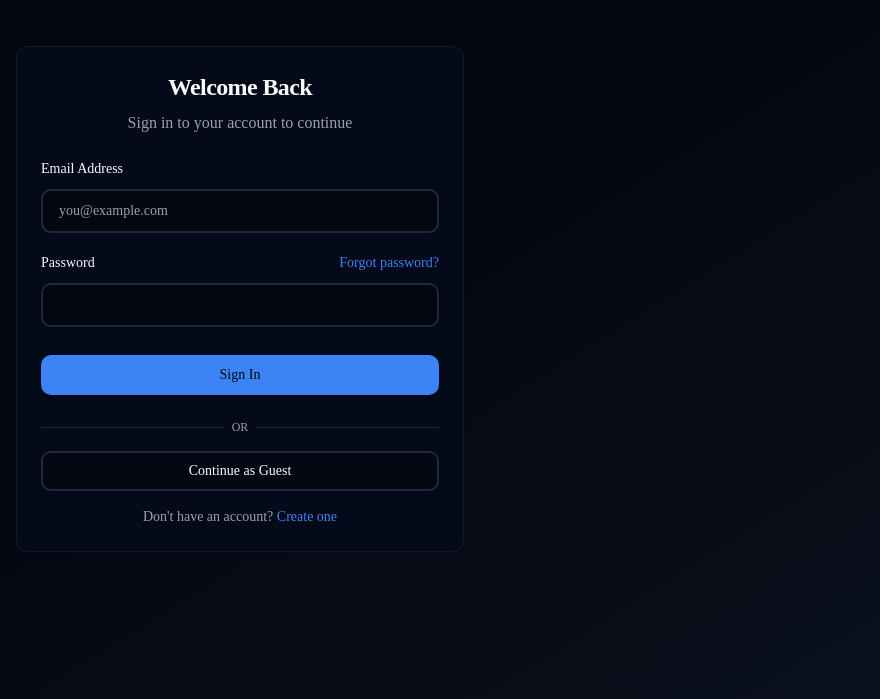
LoginPage › shows validation errors for invalid input
The width and height of the screenshot is (880, 699).
Click the button "Sign In" at (240, 375), box top-left (41, 355), bottom-right (439, 395)
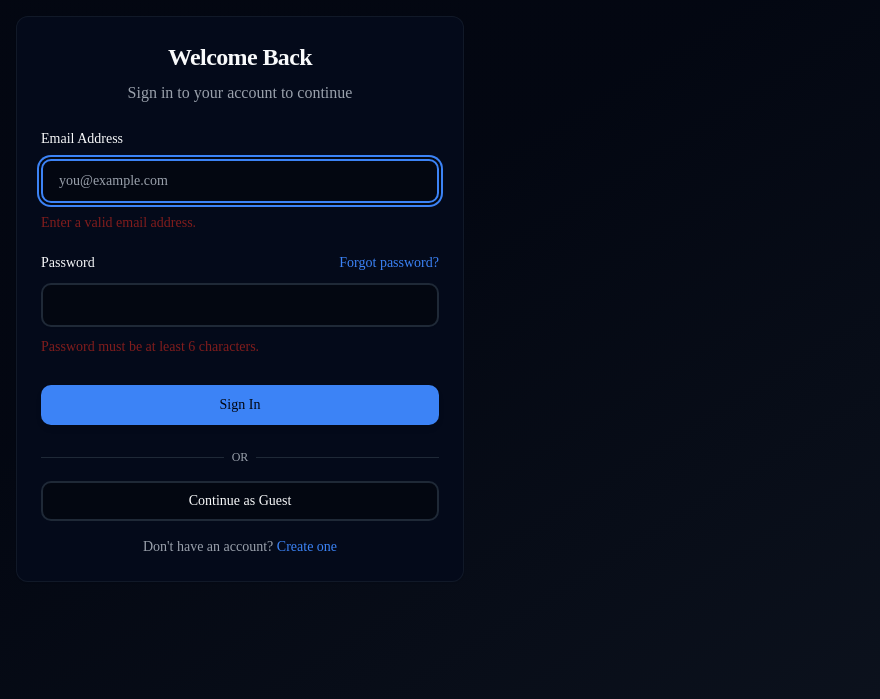
Expected: the text "Enter a valid email address." is shown, top-left (41, 215), bottom-right (196, 230)
Expected: the text "Password must be at least 6 characters." is shown, top-left (41, 339), bottom-right (259, 354)
